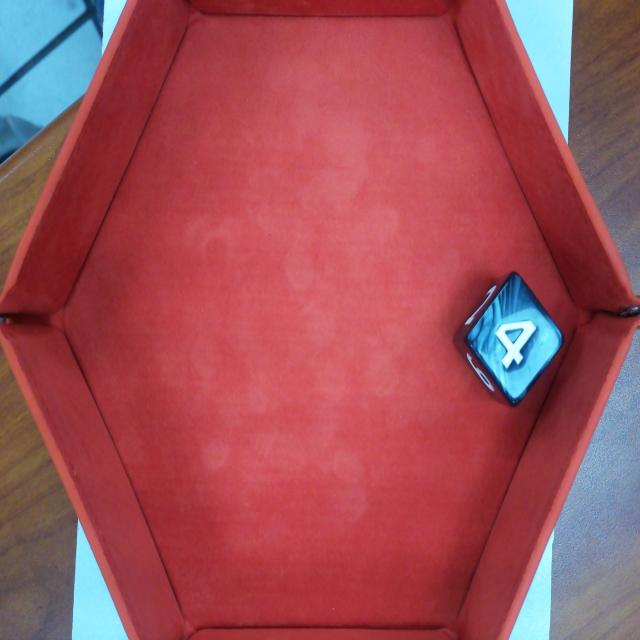dice: (466, 271, 564, 397)
